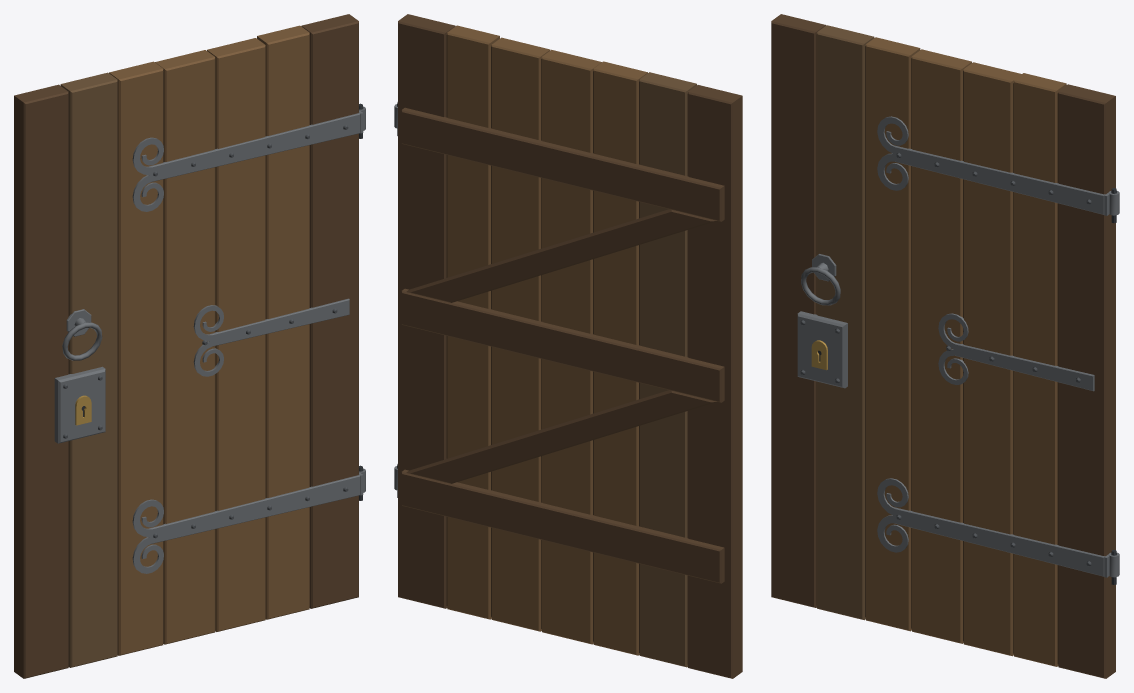
The model's file is SM_LPD_Door_DoorStrapped_01.fbx.
The picture shows the model from 3 angles, left to right: view 1: azimuth 30°, elevation 25°; view 2: azimuth 150°, elevation 25°; view 3: azimuth 330°, elevation 25°; orthographic projection.
Parts seen in each view (by area): view 1: SM_LPD_Door_DoorStrapped_01; view 2: SM_LPD_Door_DoorStrapped_01; view 3: SM_LPD_Door_DoorStrapped_01.
Part boxes in pixels (box(x1,y1,x2,y2)): SM_LPD_Door_DoorStrapped_01: box(14, 14, 365, 678); SM_LPD_Door_DoorStrapped_01: box(394, 14, 742, 678); SM_LPD_Door_DoorStrapped_01: box(771, 14, 1119, 678).
Bounding box in the file's own units: 1.59 × 2.55 × 0.1787.
